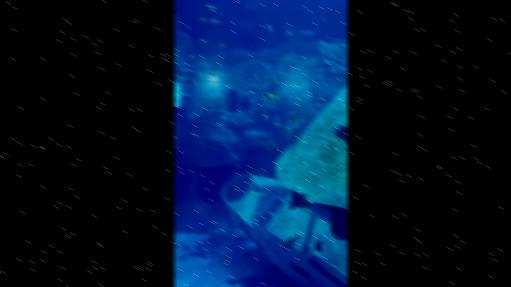Fish: (330, 206, 347, 239), (286, 22, 319, 36), (286, 111, 304, 136), (289, 191, 310, 209), (230, 14, 253, 30), (334, 124, 347, 145), (283, 234, 298, 248), (259, 184, 277, 192), (247, 1, 261, 11), (267, 92, 277, 102), (181, 66, 196, 72), (314, 240, 322, 251), (265, 22, 273, 32), (268, 140, 275, 151), (174, 14, 179, 29), (210, 18, 220, 23), (326, 36, 332, 42), (219, 43, 225, 49), (208, 5, 217, 9), (199, 17, 206, 22), (286, 30, 292, 35), (199, 38, 206, 42), (264, 112, 267, 121), (184, 25, 190, 29), (219, 11, 223, 17), (275, 79, 278, 86), (190, 55, 195, 58), (322, 16, 325, 21)
